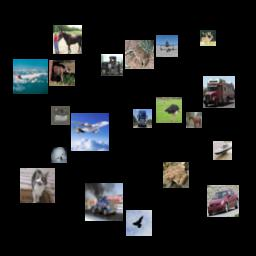airplane: (71, 113, 109, 151), (13, 59, 48, 94), (156, 35, 178, 57)
automobile: (207, 185, 239, 217)
bird: (126, 210, 152, 236), (156, 97, 182, 123)
cat: (20, 168, 55, 203), (51, 106, 70, 125)
deer: (49, 60, 75, 86), (200, 30, 216, 46)
dog: (51, 147, 67, 163)
frog: (125, 40, 154, 69), (163, 162, 189, 188)
ship: (213, 141, 232, 160)
truck: (85, 183, 123, 221), (203, 76, 235, 108), (101, 54, 123, 76), (133, 109, 152, 128)
